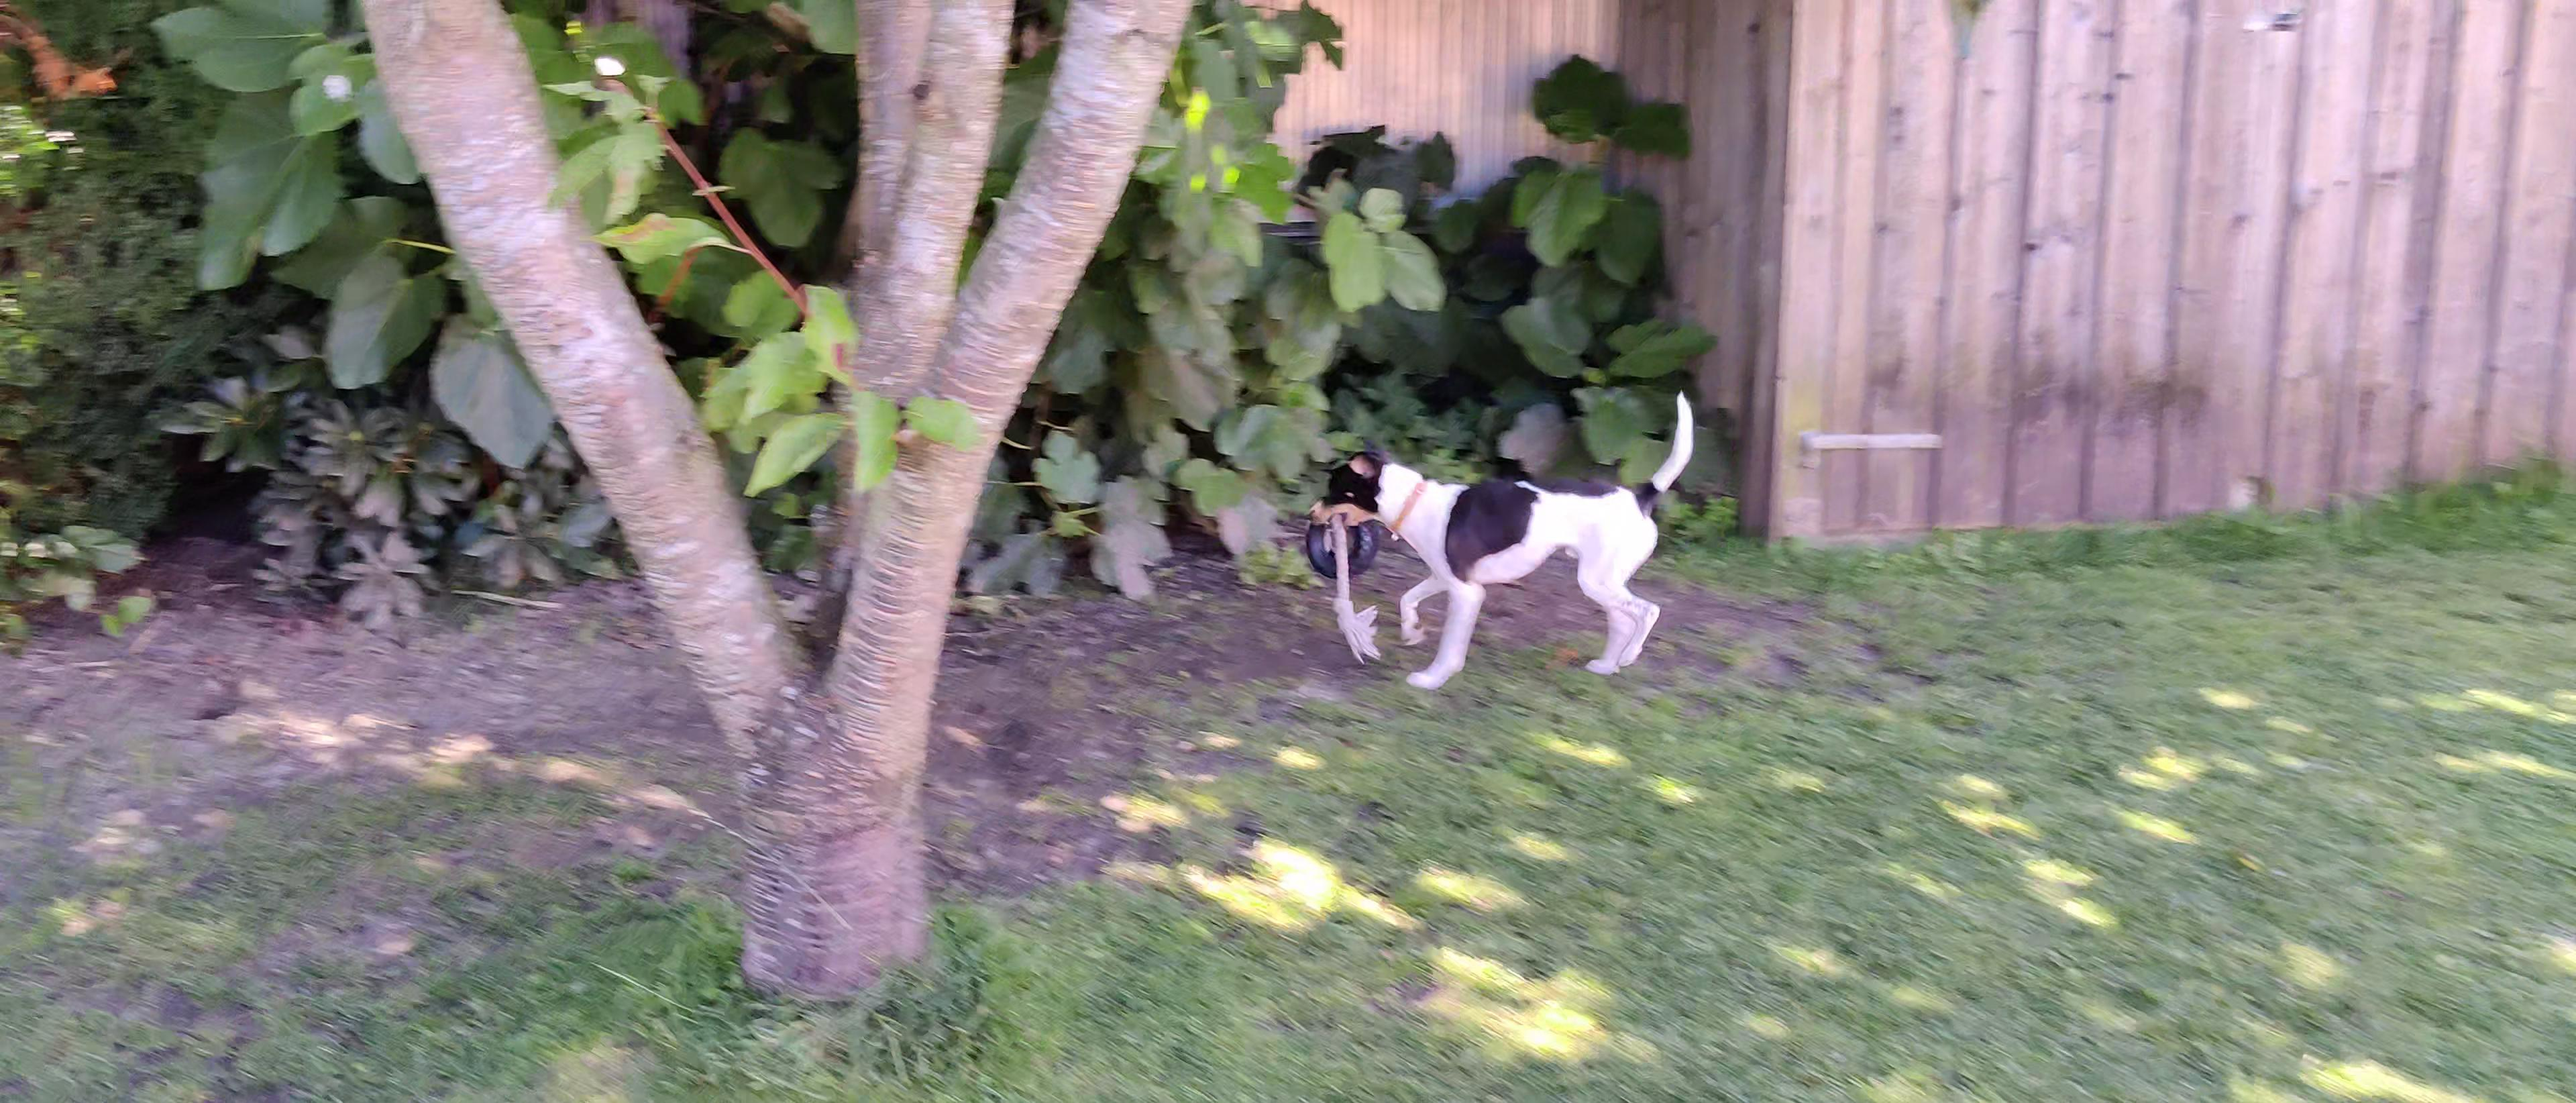Dog: (1304, 386, 1699, 692)
